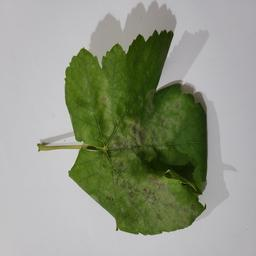Powdery-Mildew: (105, 123, 143, 194), (142, 170, 191, 219), (80, 73, 114, 128), (152, 92, 187, 144), (124, 200, 154, 229)
